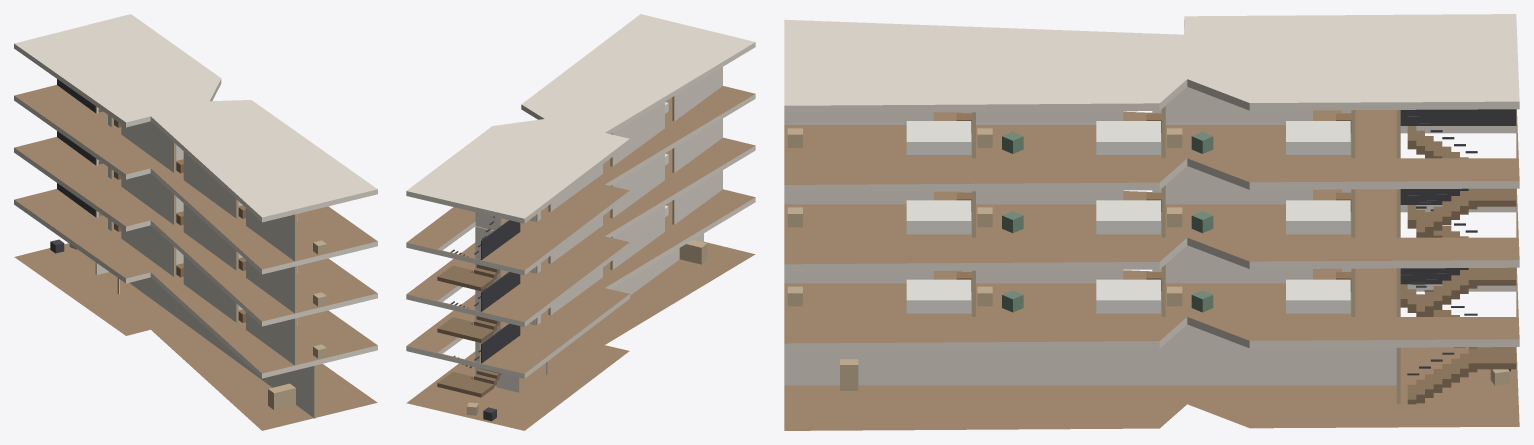
The model's file is interior.glb.
3 views of the same model, side by side, from view 1: azimuth 30°, elevation 25°; view 2: azimuth 150°, elevation 25°; view 3: azimuth 270°, elevation 25° (orthographic). The views are drawn at different scales.
Visible parts, largest first — view 1: slabs, partitions, stair, coarse-s0, coarse-s1, coarse-s3, coarse-s2; view 2: slabs, partitions, stair, coarse-s0; view 3: slabs, partitions, stair, coarse-s2, coarse-s1, coarse-s3, coarse-s0.
Boxes of the visible parts, bbox=[...] form: slabs: bbox=[14, 14, 377, 430]; partitions: bbox=[95, 106, 316, 418]; stair: bbox=[57, 79, 102, 217]; coarse-s0: bbox=[50, 239, 295, 410]; coarse-s1: bbox=[114, 223, 326, 358]; coarse-s3: bbox=[114, 119, 326, 254]; coarse-s2: bbox=[114, 171, 326, 306]; slabs: bbox=[406, 14, 755, 430]; partitions: bbox=[475, 67, 722, 392]; stair: bbox=[437, 216, 520, 397]; coarse-s0: bbox=[466, 240, 707, 421]; slabs: bbox=[784, 14, 1519, 430]; partitions: bbox=[784, 87, 1400, 404]; stair: bbox=[1400, 109, 1516, 404]; coarse-s2: bbox=[787, 192, 1351, 234]; coarse-s1: bbox=[787, 272, 1351, 313]; coarse-s3: bbox=[787, 113, 1351, 154]; coarse-s0: bbox=[840, 359, 1510, 390].
Size of the model in its own units: 6.71 by 11.1 by 22.71.
